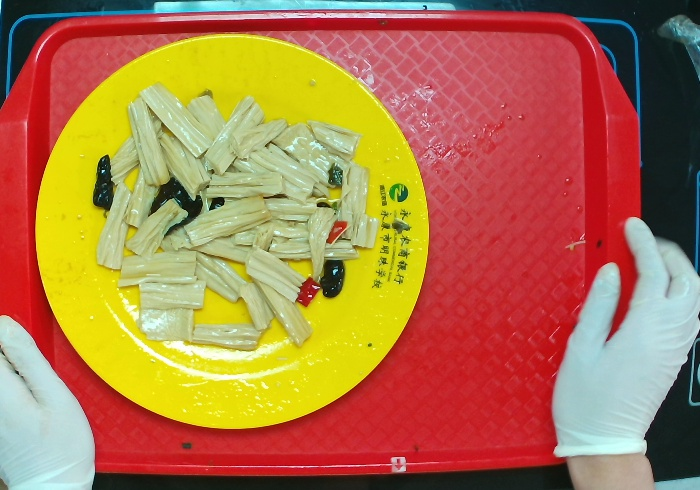YKMZ-Huang_Se_Mian_Pan: (25, 28, 434, 435)
